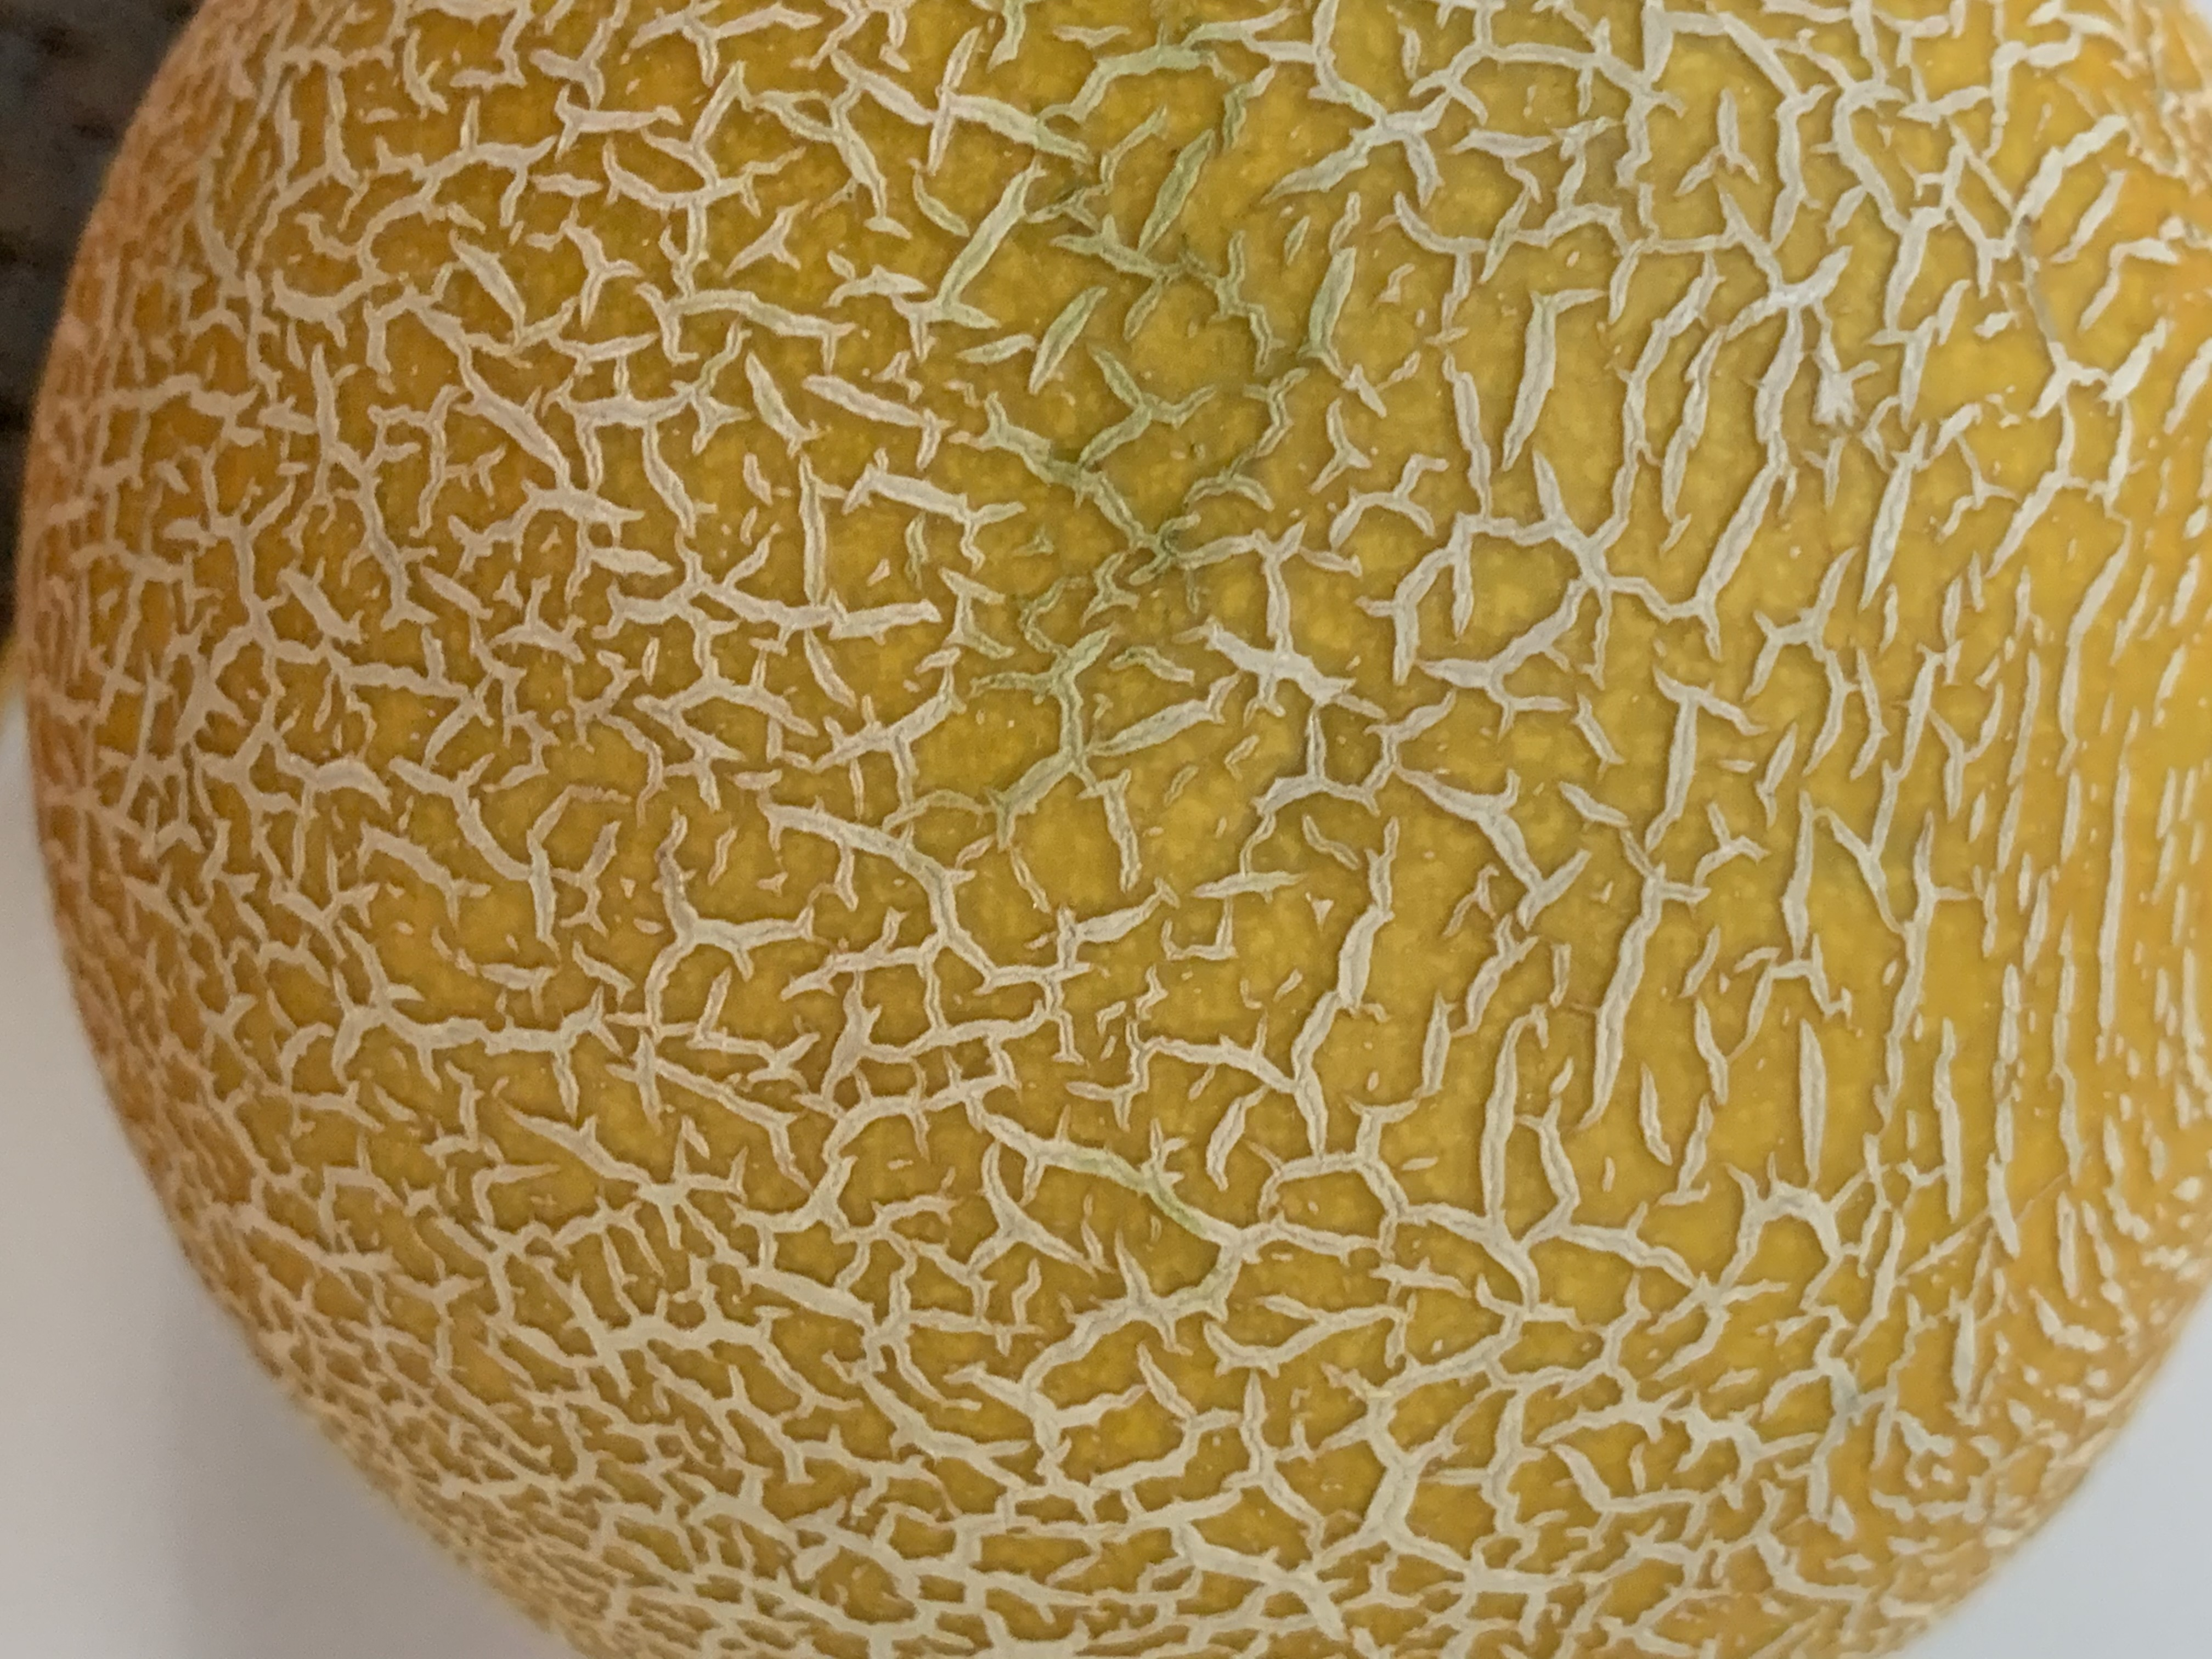galia melon: (2, 5, 2188, 1659)
